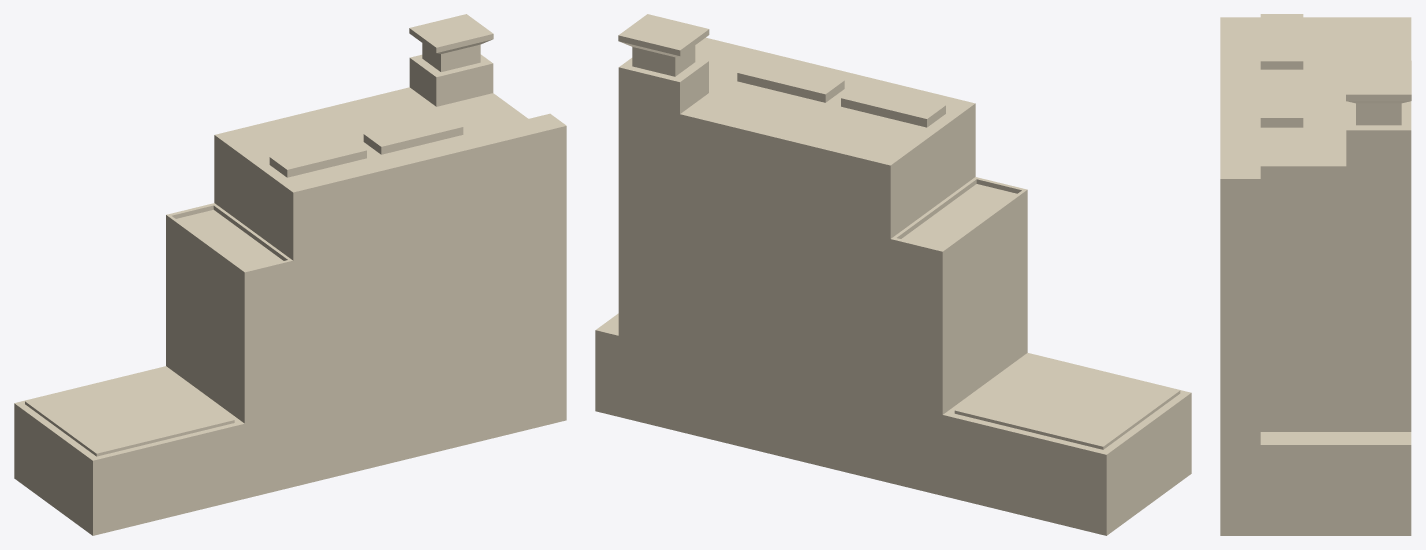
Rendered from SM_Flowers_Building.fbx.
3 views of the same model, side by side, from view 1: azimuth 30°, elevation 25°; view 2: azimuth 150°, elevation 25°; view 3: azimuth 270°, elevation 25° (orthographic). The views are drawn at different scales.
Visible parts, largest first — view 1: SM_Flowers_Building; view 2: SM_Flowers_Building; view 3: SM_Flowers_Building.
Part boxes in pixels (<box>): SM_Flowers_Building: <box>14,14,566,535</box>; SM_Flowers_Building: <box>595,14,1191,535</box>; SM_Flowers_Building: <box>1220,14,1411,535</box>.
Bounding box in the file's own units: 58.93 × 42.05 × 16.98.
